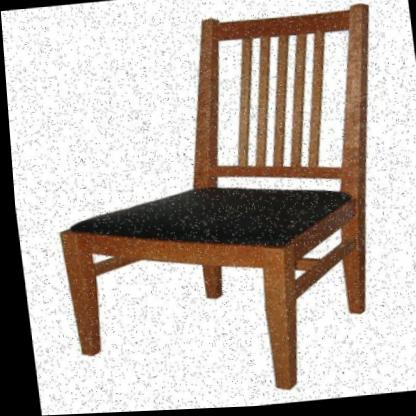Chair: (5, 0, 416, 416)
